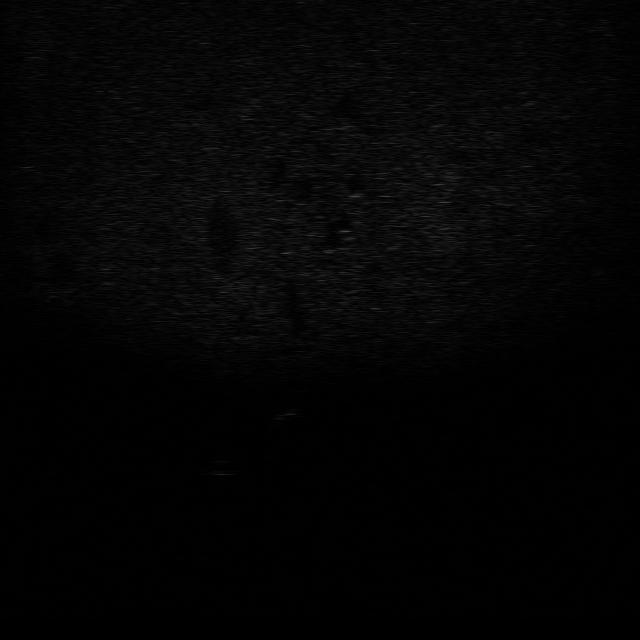ball: (200, 456, 241, 480)
human body: (264, 387, 308, 431)
